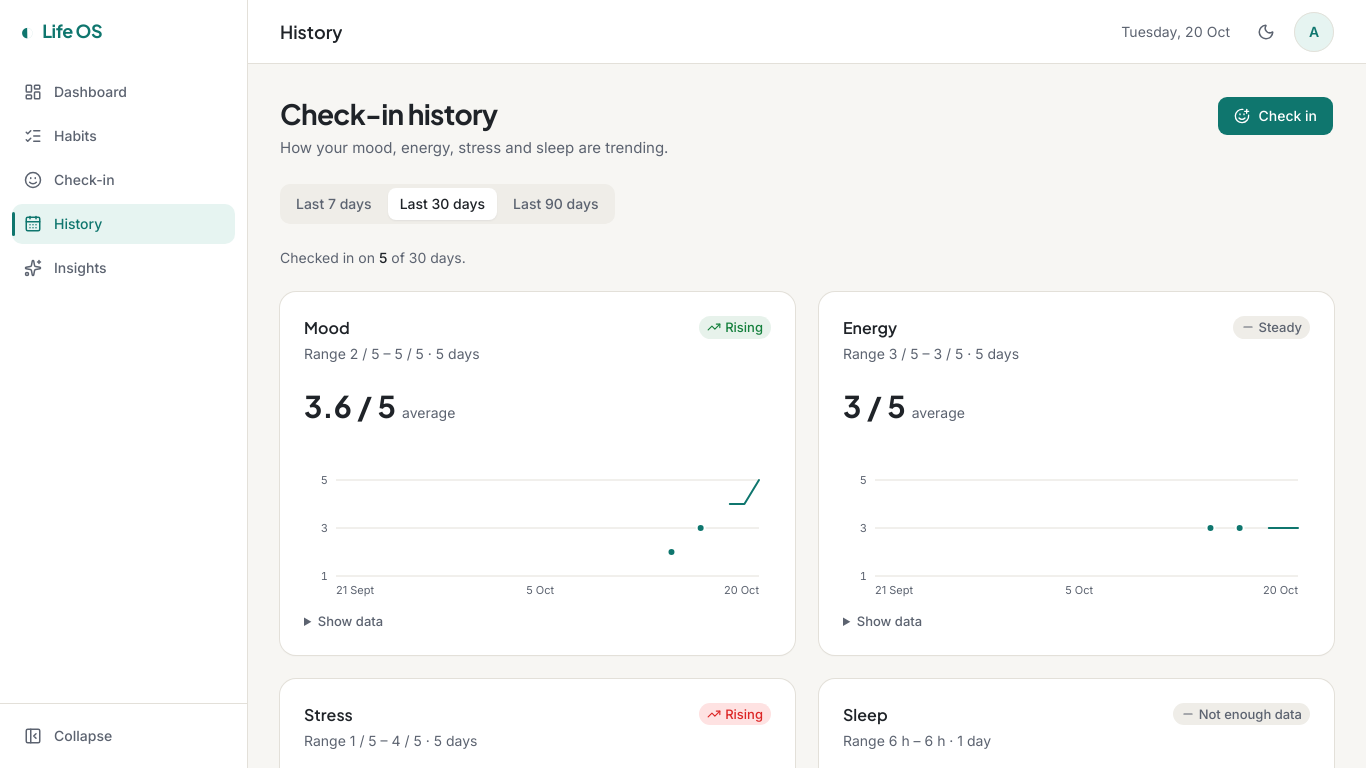
Test case: CheckInHistoryPage › switches between 7, 30 and 90 days
Check: the text "Checked in on 5 of 30 days." is shown, box left=280, top=249, right=466, bottom=266
Click the button "Last 7 days".
click(334, 204)  # box left=284, top=188, right=384, bottom=220
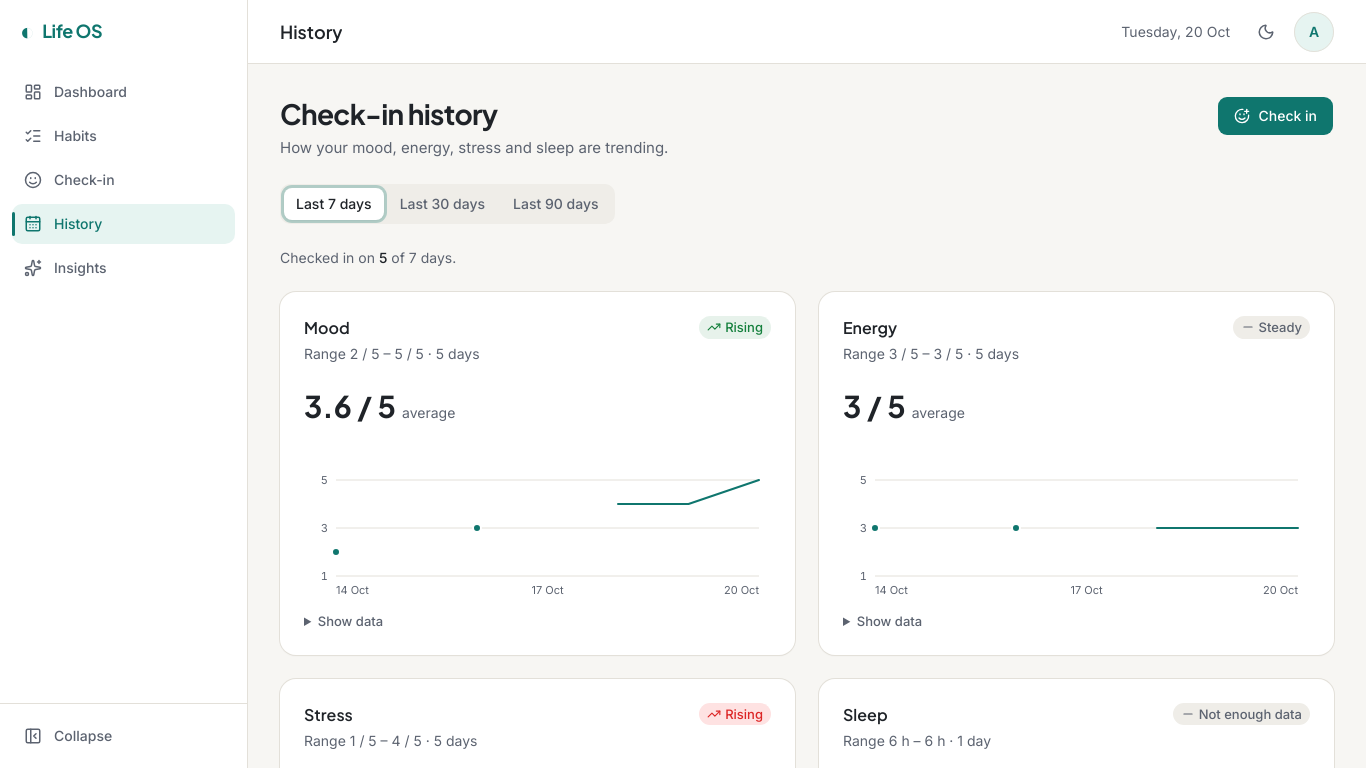
Check: the text "Checked in on 5 of 7 days." is shown, box left=280, top=249, right=456, bottom=266
Click the button "Last 90 days".
click(556, 204)  # box left=501, top=188, right=611, bottom=220
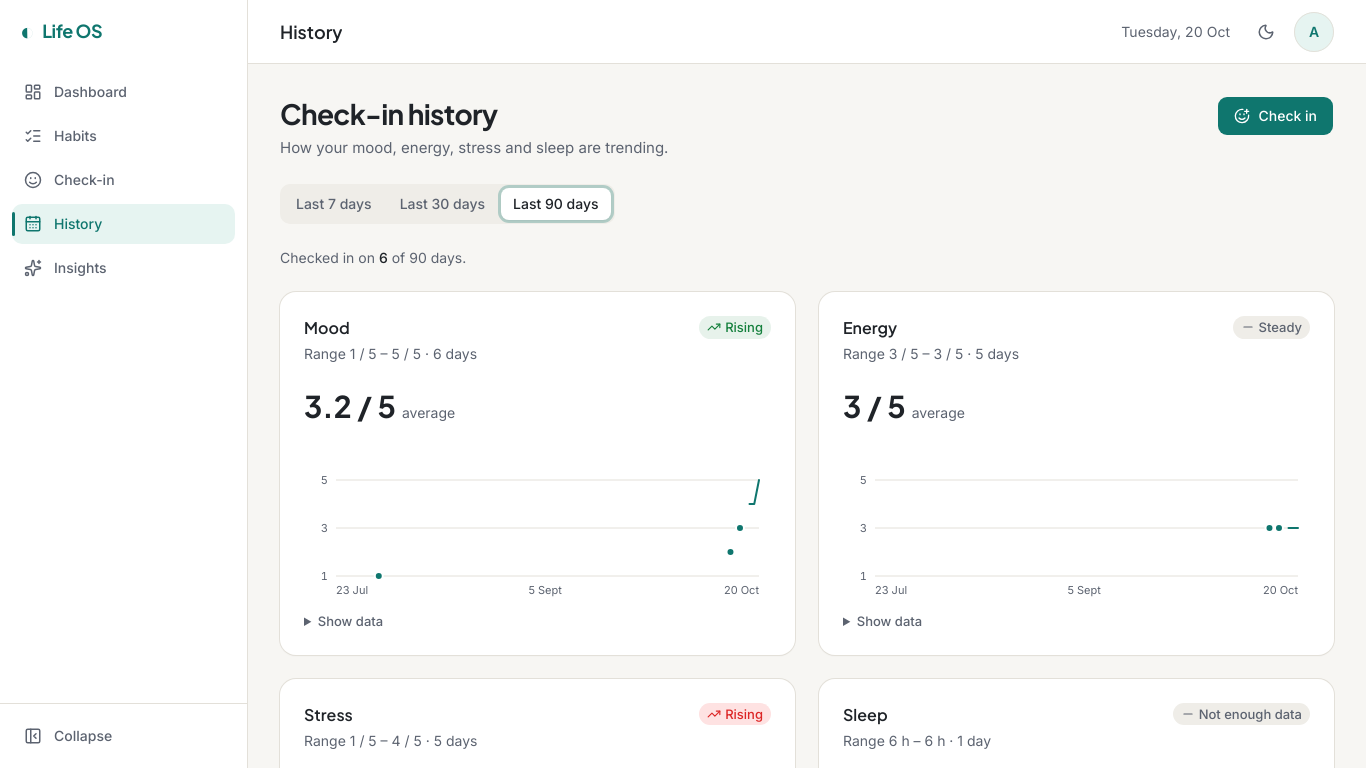
Check: the text "Checked in on 6 of 90 days." is shown, box left=280, top=249, right=466, bottom=266
